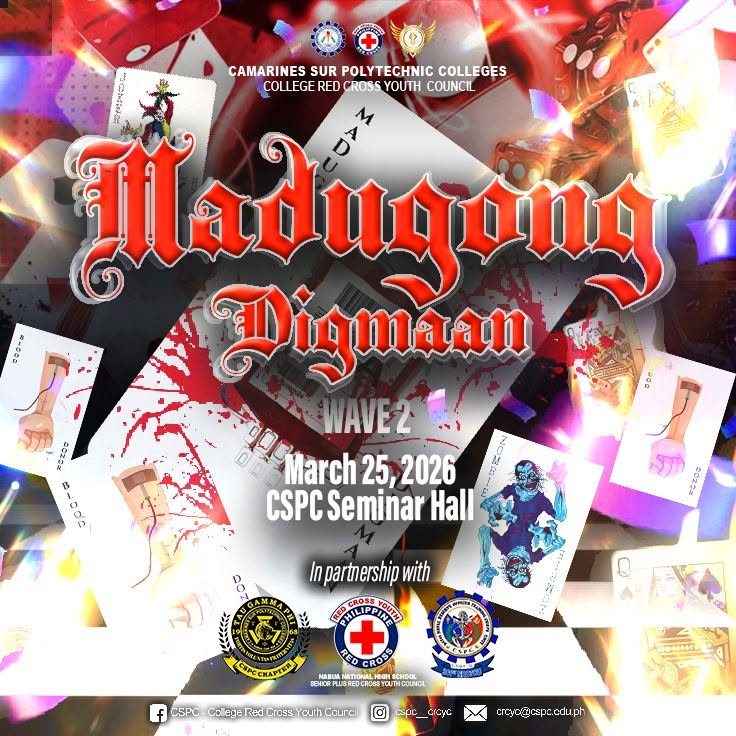embellishment: (49, 438, 242, 630), (439, 428, 602, 624), (609, 347, 735, 508), (610, 539, 736, 700), (105, 66, 218, 219), (0, 322, 105, 485), (623, 58, 730, 198), (219, 594, 311, 681), (426, 590, 500, 681), (329, 595, 405, 673)
logo: (216, 594, 312, 682), (425, 588, 500, 680), (329, 595, 406, 673), (389, 15, 438, 62), (310, 20, 347, 58), (351, 21, 386, 57)
text: (64, 132, 676, 311), (211, 284, 534, 394), (227, 64, 506, 93), (149, 704, 586, 722), (266, 489, 474, 520), (284, 452, 456, 488), (309, 559, 431, 587), (323, 397, 412, 434)
underlay: (166, 583, 609, 696), (127, 696, 609, 730)
